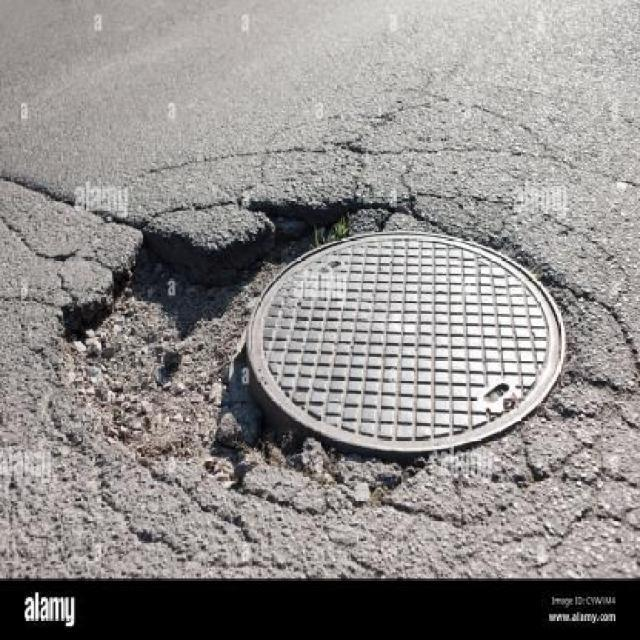Manhole: (242, 222, 572, 462)
Pothole: (61, 183, 227, 480), (234, 400, 294, 528), (238, 198, 388, 246)
